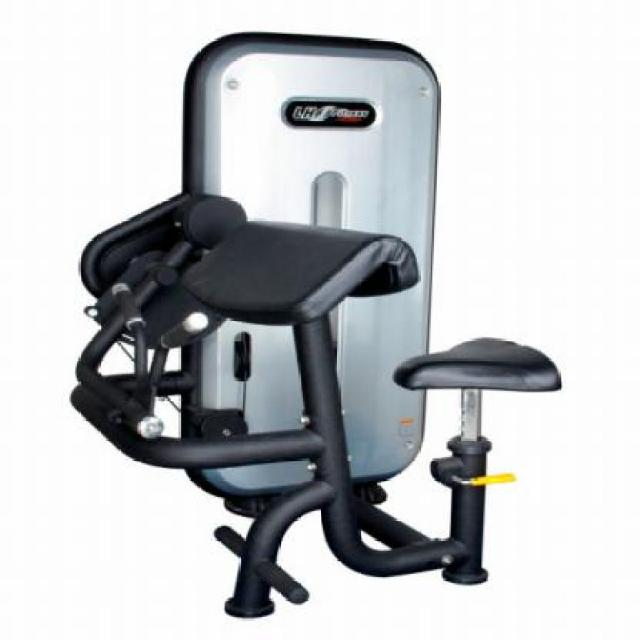arm curl machine: (72, 32, 568, 617)
